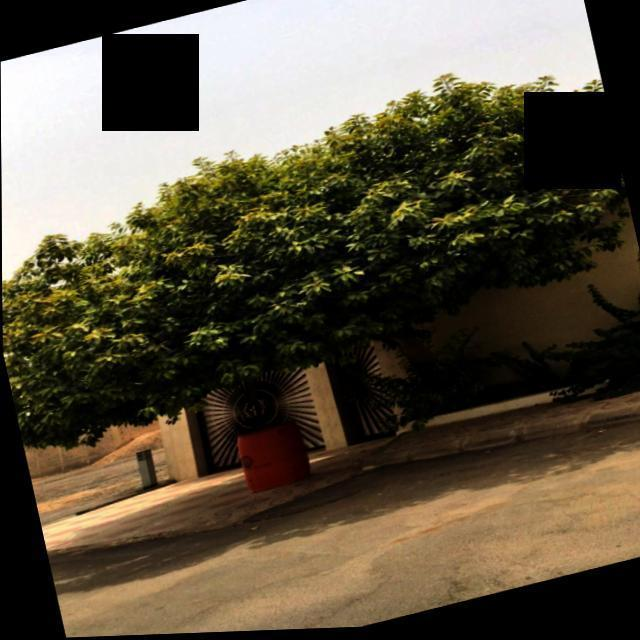tree: (0, 41, 640, 517)
